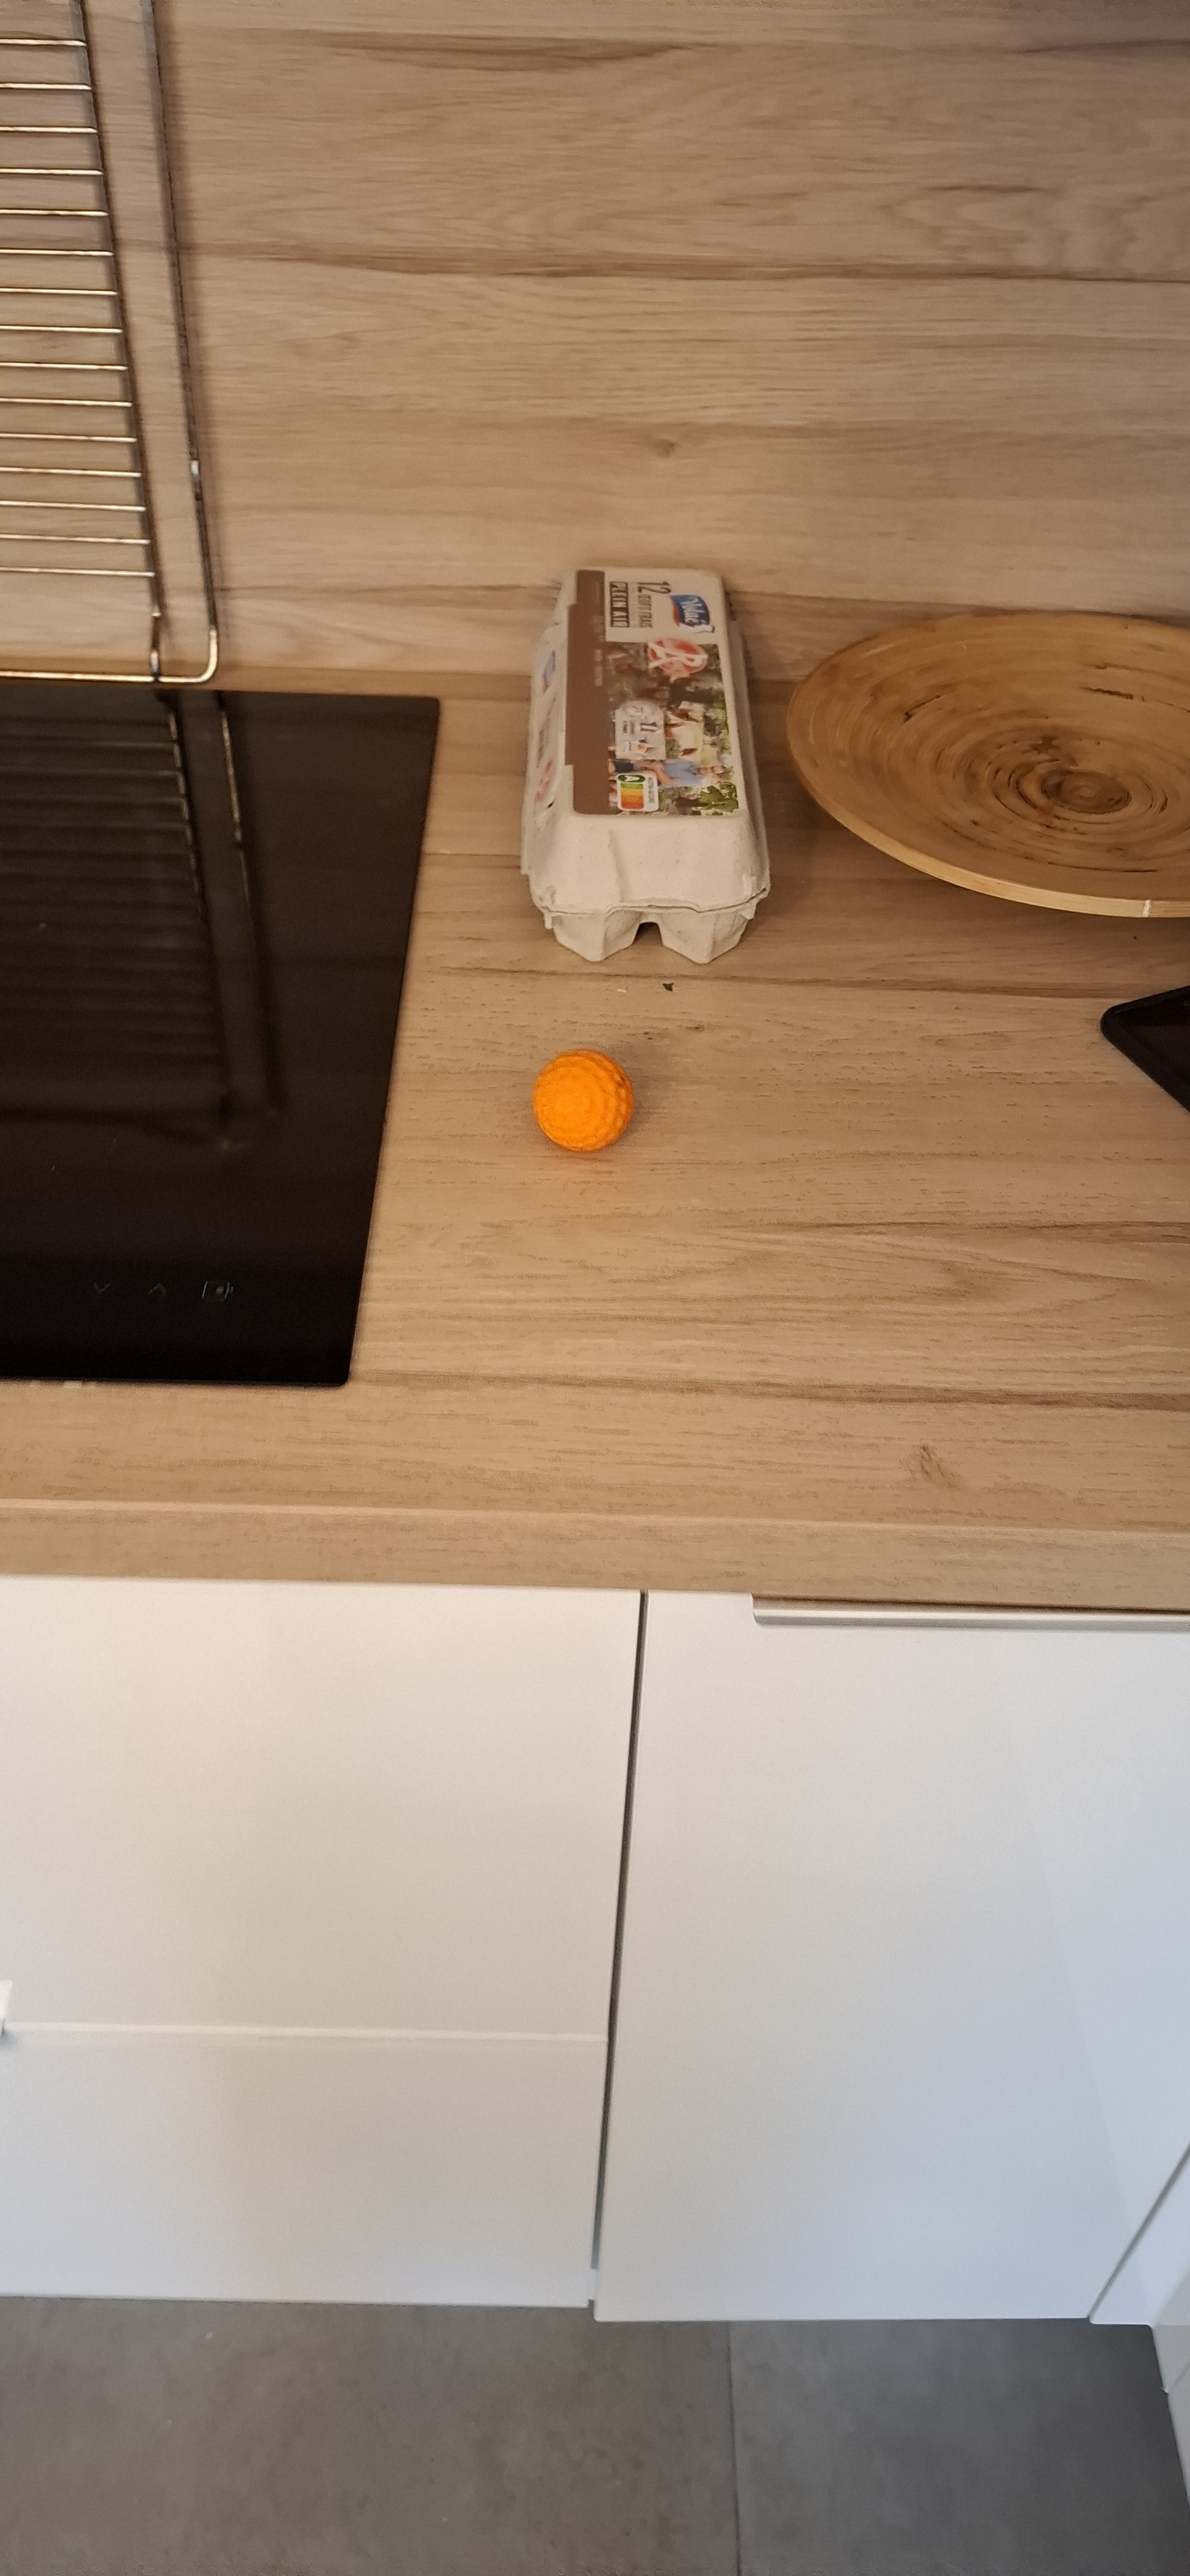ball: (485, 1206, 533, 1426)
